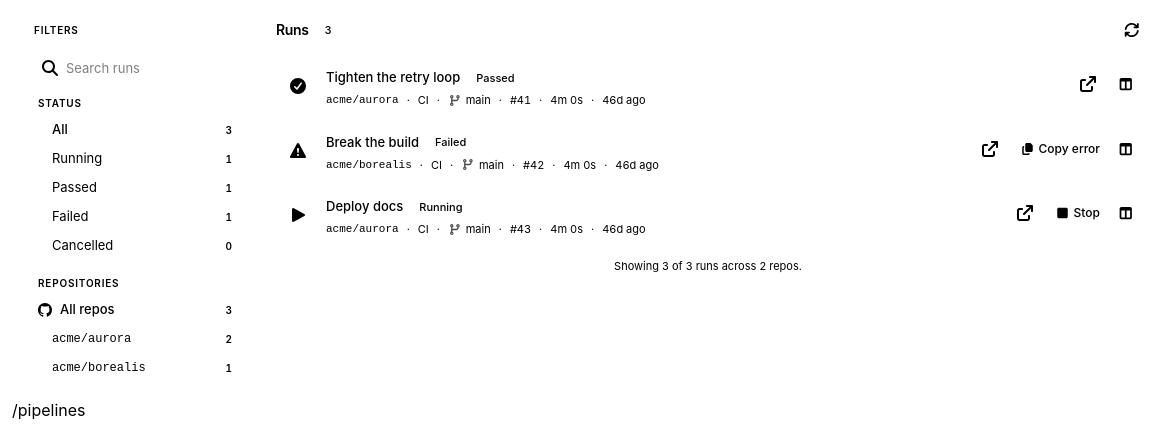
PipelinesPage run list › filters by repository and clears every filter at once
Expected: the text "Tighten the retry loop" is shown, [326,69,460,87]
Click the button "acme/borealis 1".
click(136, 368)  # box [28,354,244,382]
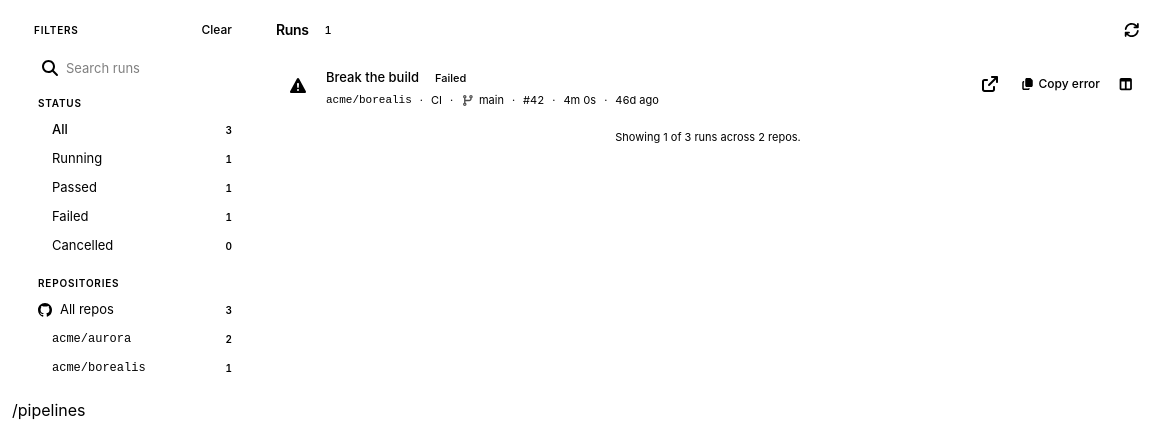
Expected: the button "Tighten the retry loop" is gone
Click the button "Clear".
click(217, 30)  # box [190,16,244,44]
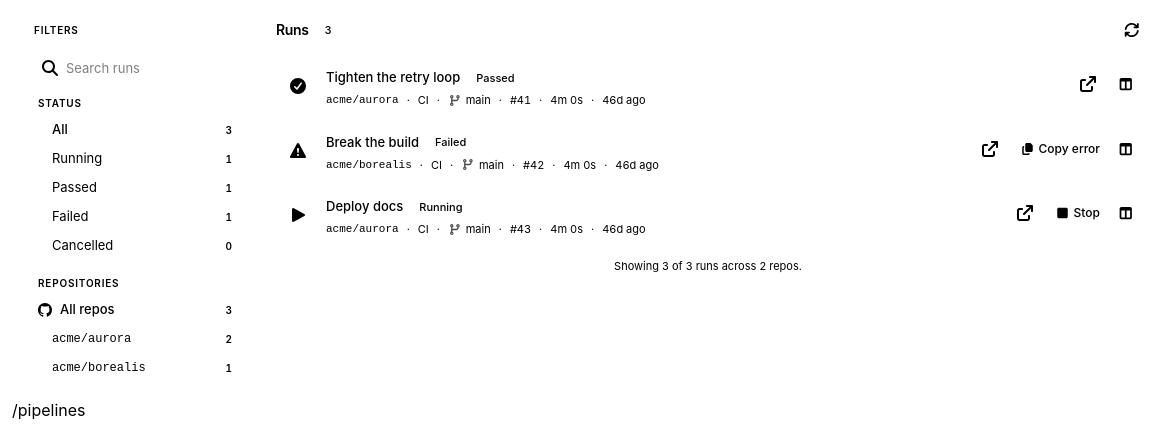
Expected: the text "Tighten the retry loop" is shown, [326,69,460,87]
